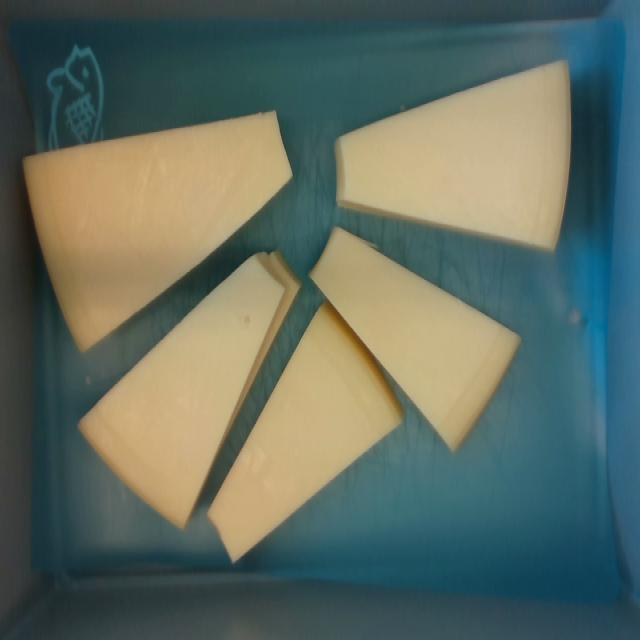Cheese: (25, 112, 291, 349), (76, 256, 285, 530), (208, 310, 400, 563), (311, 225, 521, 451), (336, 63, 568, 249)
